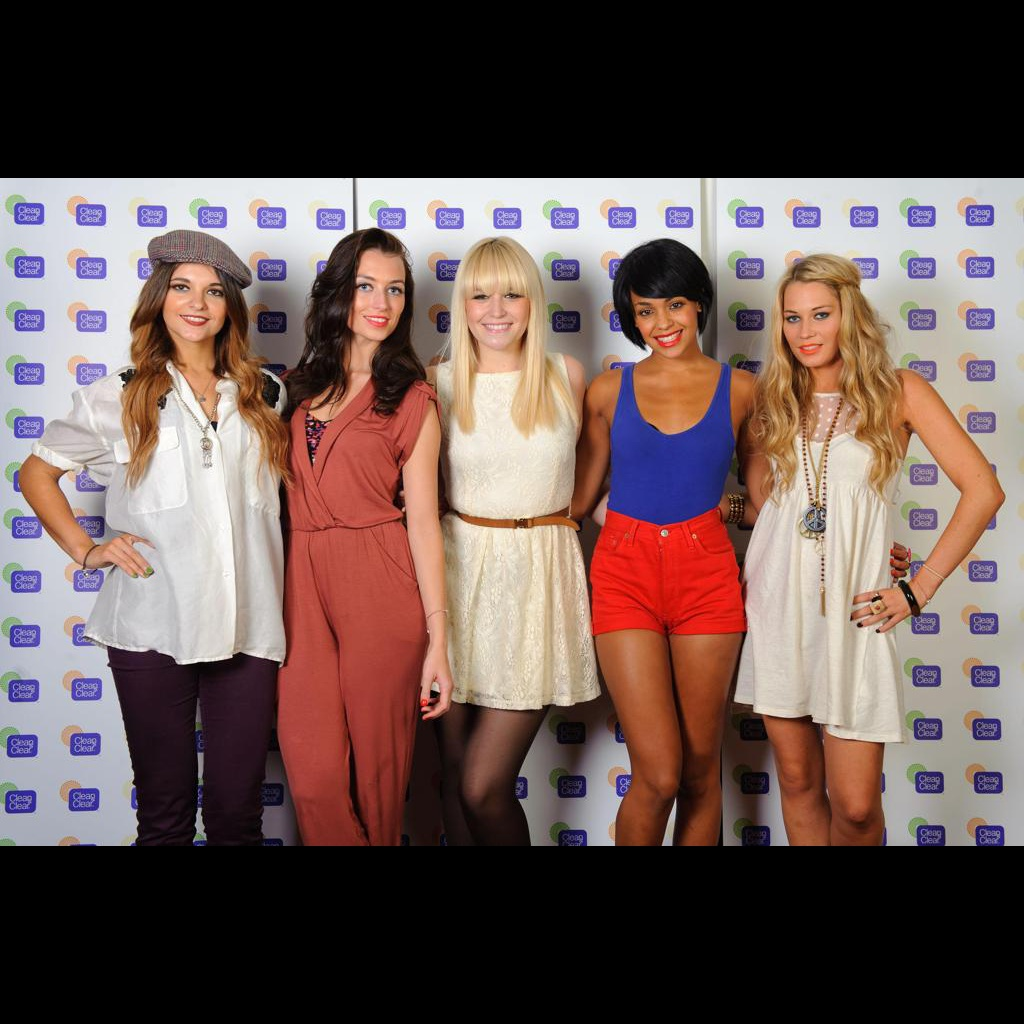face: (464, 272, 534, 350), (346, 250, 404, 344), (780, 284, 844, 368), (164, 262, 226, 342), (634, 288, 700, 352)
hand: (848, 571, 928, 638), (86, 526, 155, 580), (414, 633, 454, 721)
